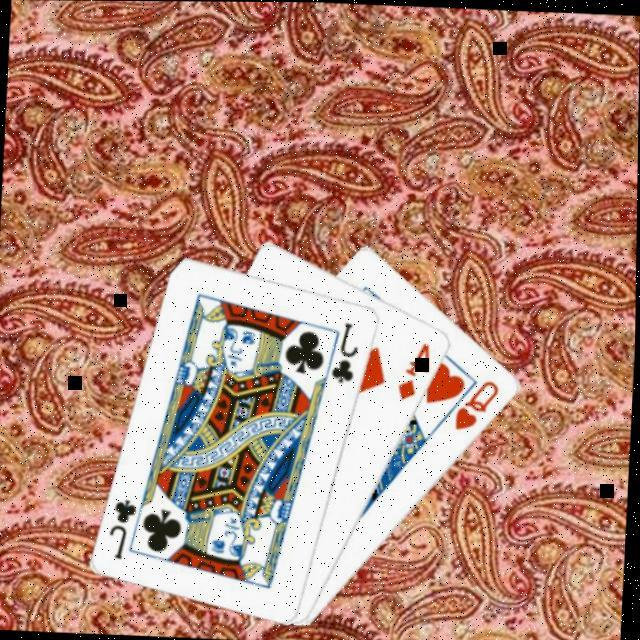4D: (397, 337, 438, 402)
JC: (330, 316, 366, 384), (108, 494, 144, 562)
QH: (454, 374, 506, 434)
